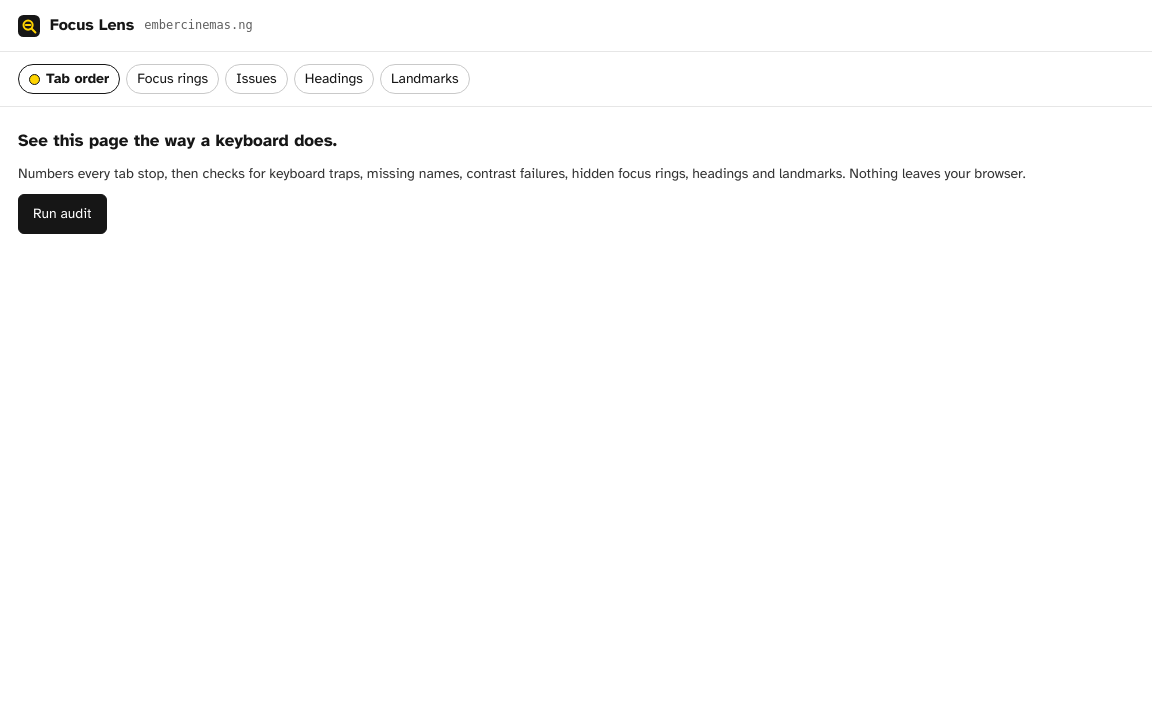
Test case: Panel › starts idle, runs on request and opens the worst issue
Click the button "Run audit": (62, 214) [18,194,107,234]
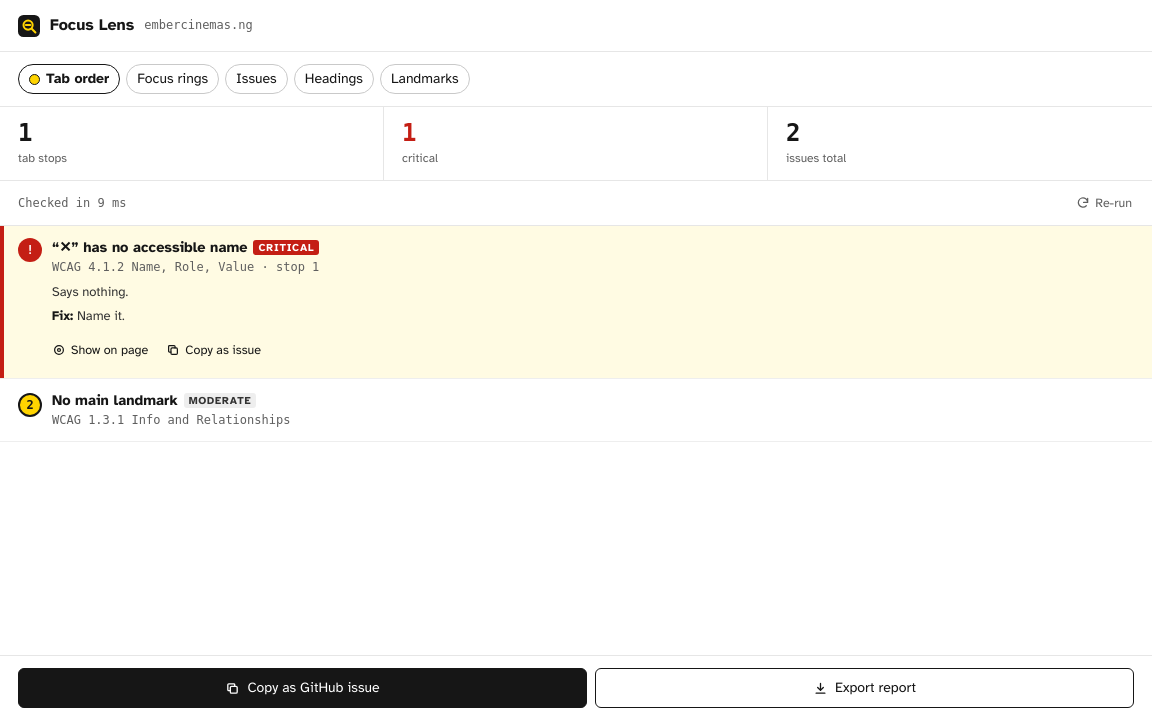
Check: the text "tab stops" is shown, box [18,151,67,165]
Check: the text "Says nothing." is shown, box [52,284,128,300]
Check: the list named "2 issues" is shown, box [0,226,1151,442]
